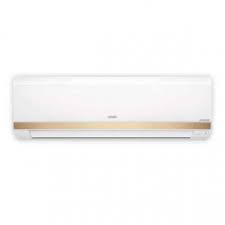ac: (8, 70, 218, 143)
